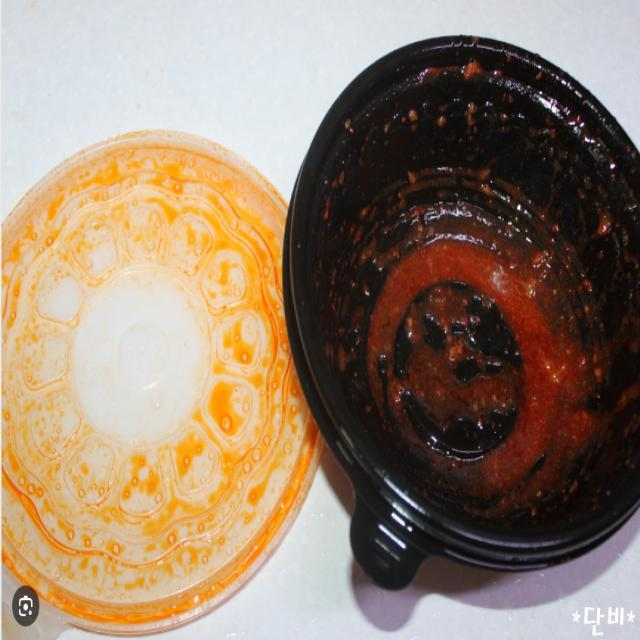bottle: (256, 44, 640, 640)
